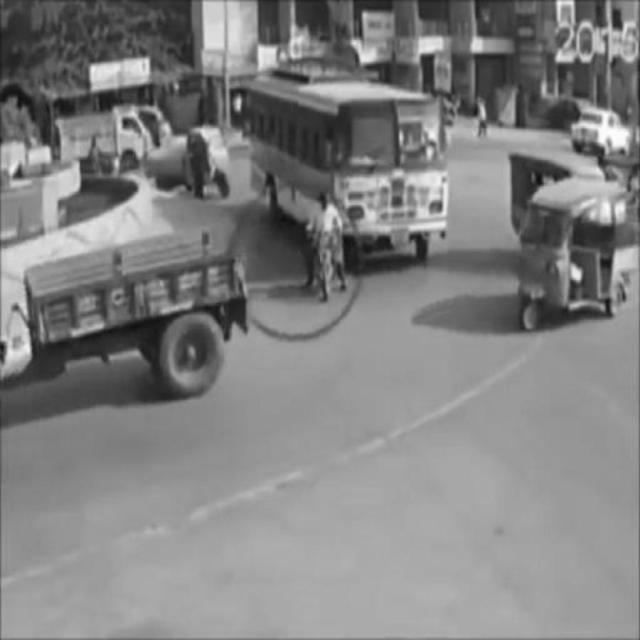vehicle: (0, 236, 247, 398), (248, 78, 446, 263), (521, 173, 633, 333), (149, 128, 235, 199), (312, 195, 349, 305)
